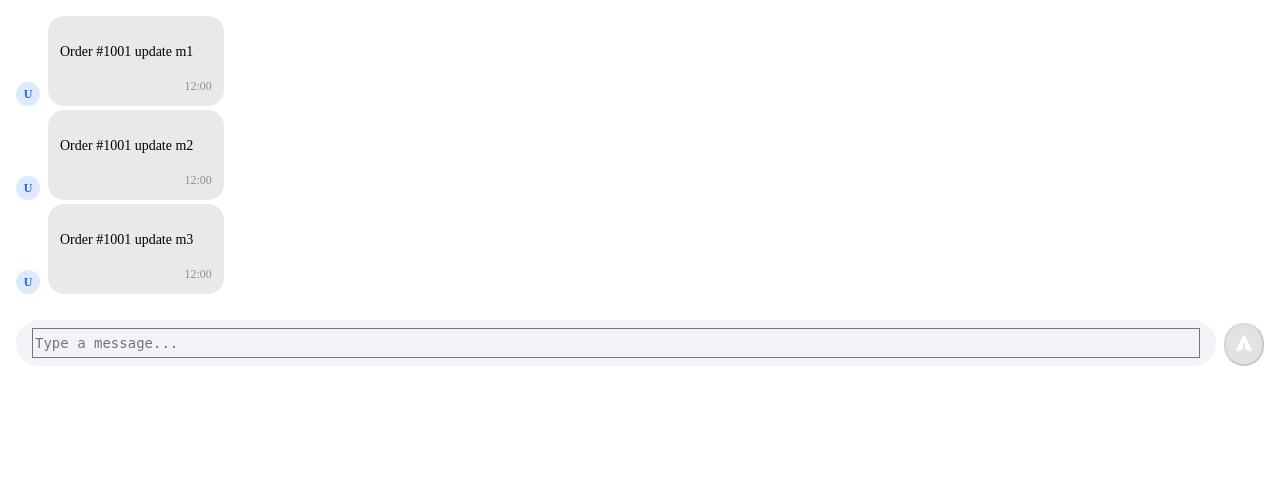
Test: UI kit with queueOfflineMessages off: unchanged › a send that rejects shows Retry, never "Waiting for network…"
The width and height of the screenshot is (1280, 499).
Expected: the text "Order #1001 update m3" is shown, [60,232,193,247]
Type "Order #1001 is ready" into the text box with placeholder "Type a message..." at (616, 343), box [32,328,1200,358]
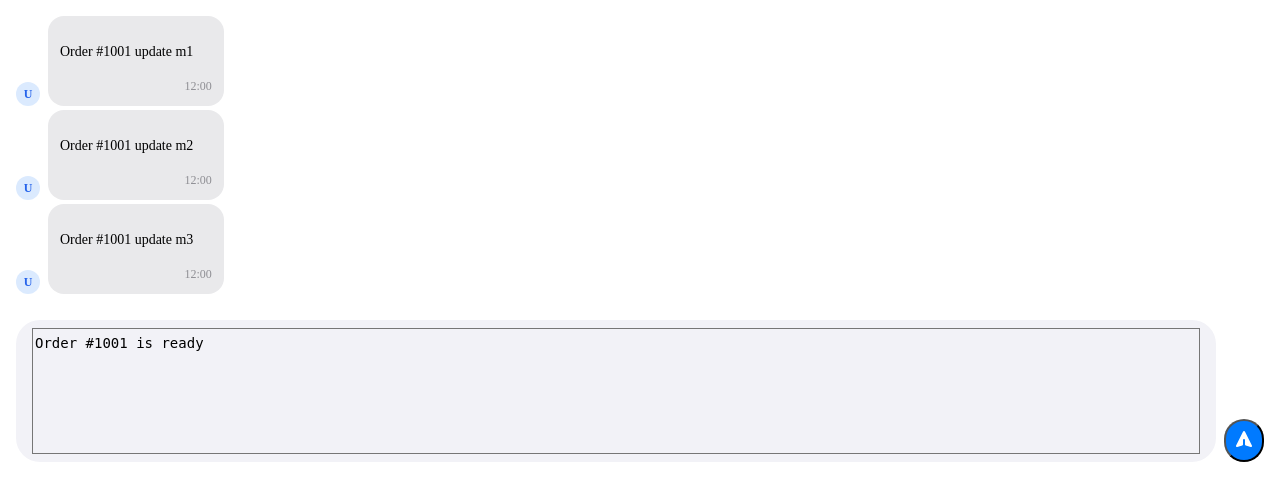
Press Enter in the text box with placeholder "Type a message...", box [32,328,1200,454]
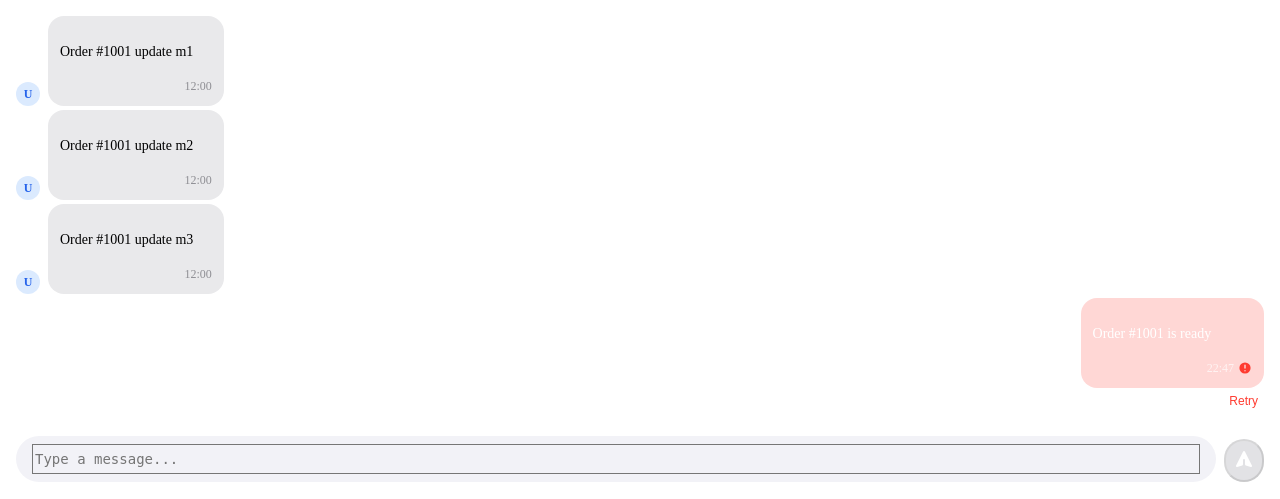
Expected: the button "Retry" is shown, [1223,392,1264,410]
